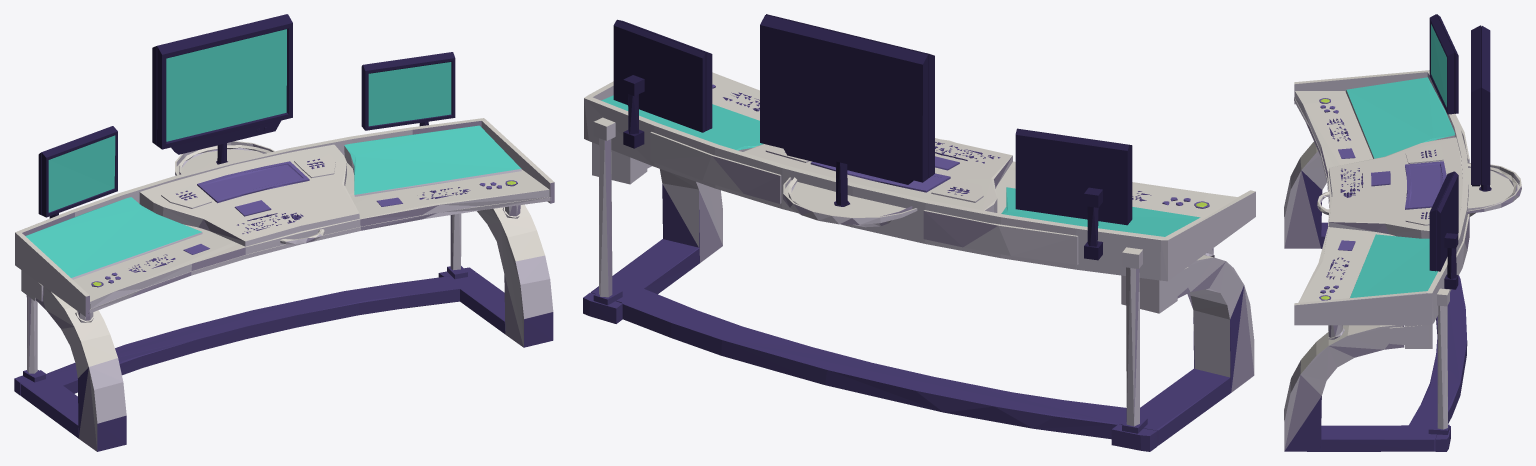
File: consola-doble.glb
The picture shows the model from 3 angles, left to right: view 1: azimuth 30°, elevation 25°; view 2: azimuth 150°, elevation 25°; view 3: azimuth 270°, elevation 25°; orthographic projection. The views are drawn at different scales.
Visible parts, largest first — view 1: consola-doble; view 2: consola-doble; view 3: consola-doble.
Part boxes in pixels (box(x1,y1,x2,y2)): consola-doble: box(14, 14, 554, 451); consola-doble: box(583, 14, 1255, 451); consola-doble: box(1284, 14, 1521, 451).
Size of the model in its own units: 1 by 0.598 by 0.4503.
